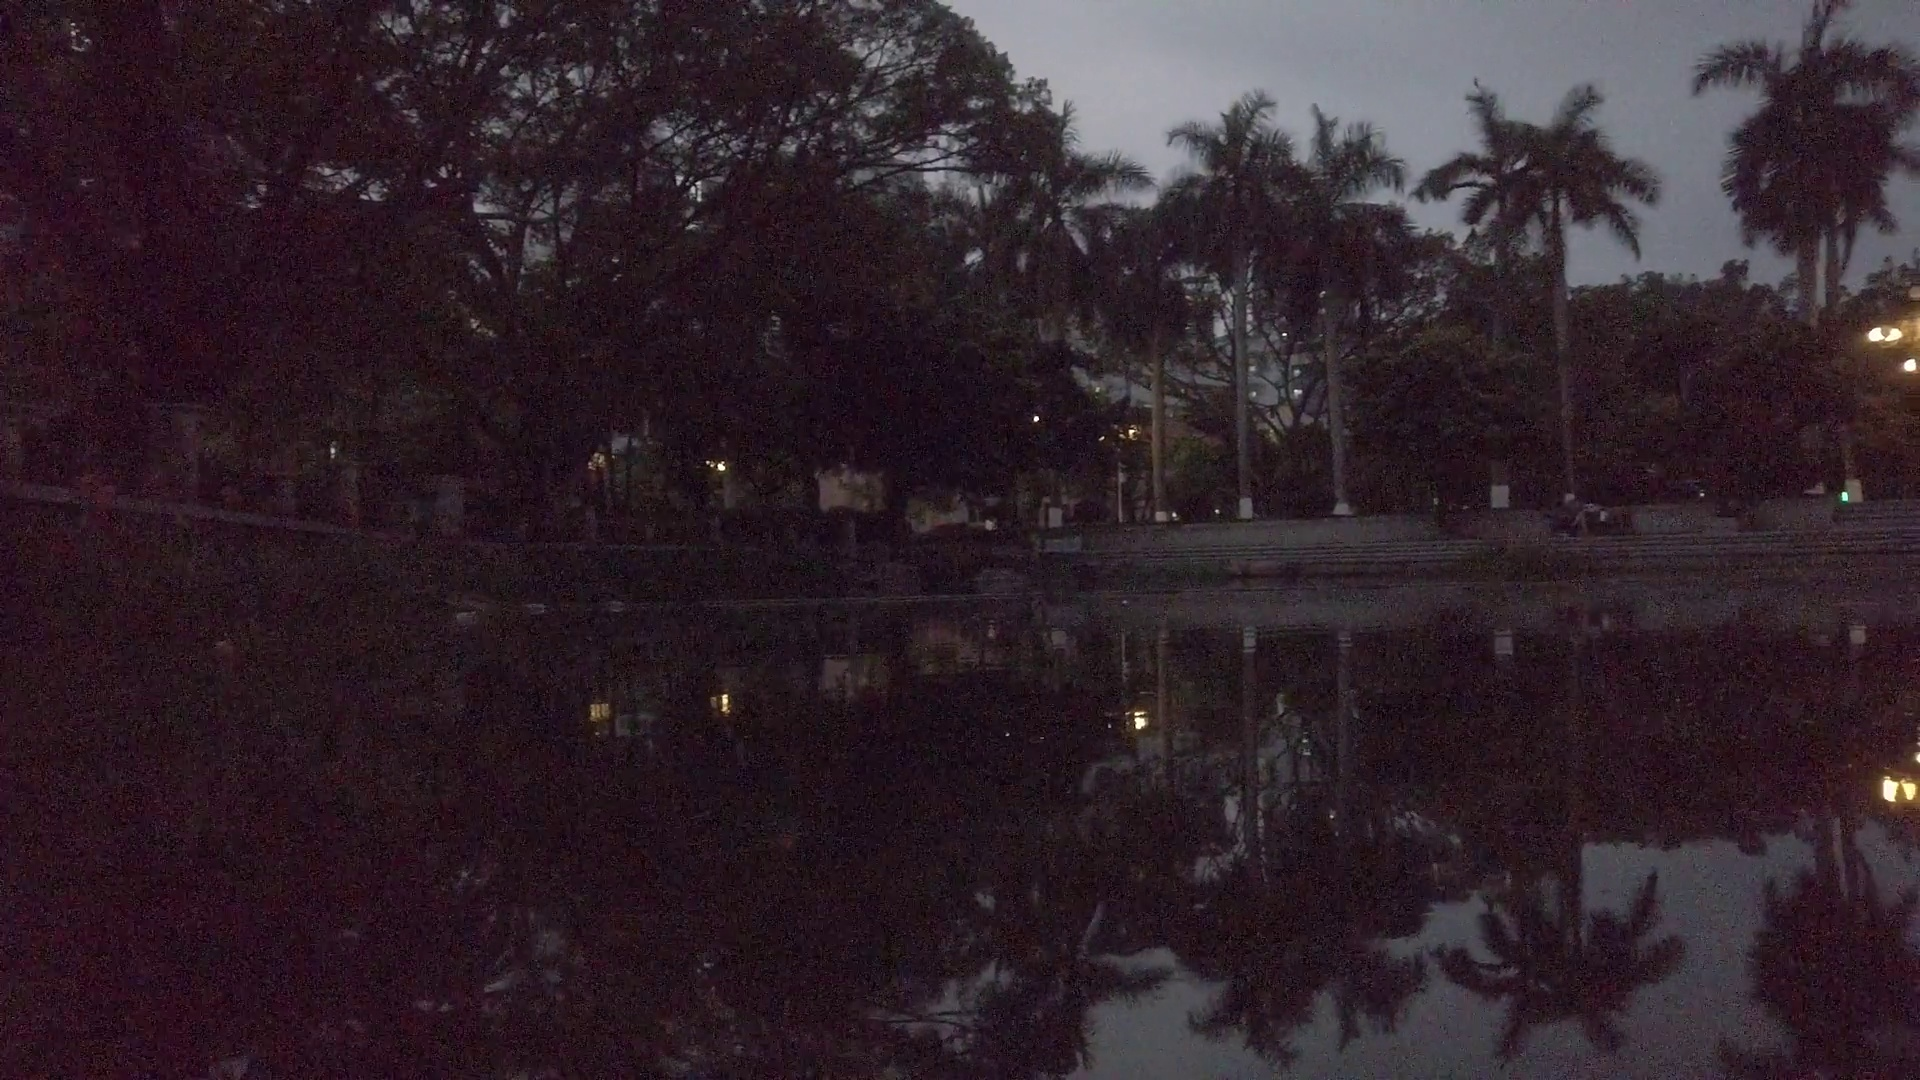bottle: (214, 633, 244, 665), (451, 611, 476, 622), (525, 603, 549, 615), (607, 597, 624, 611)
